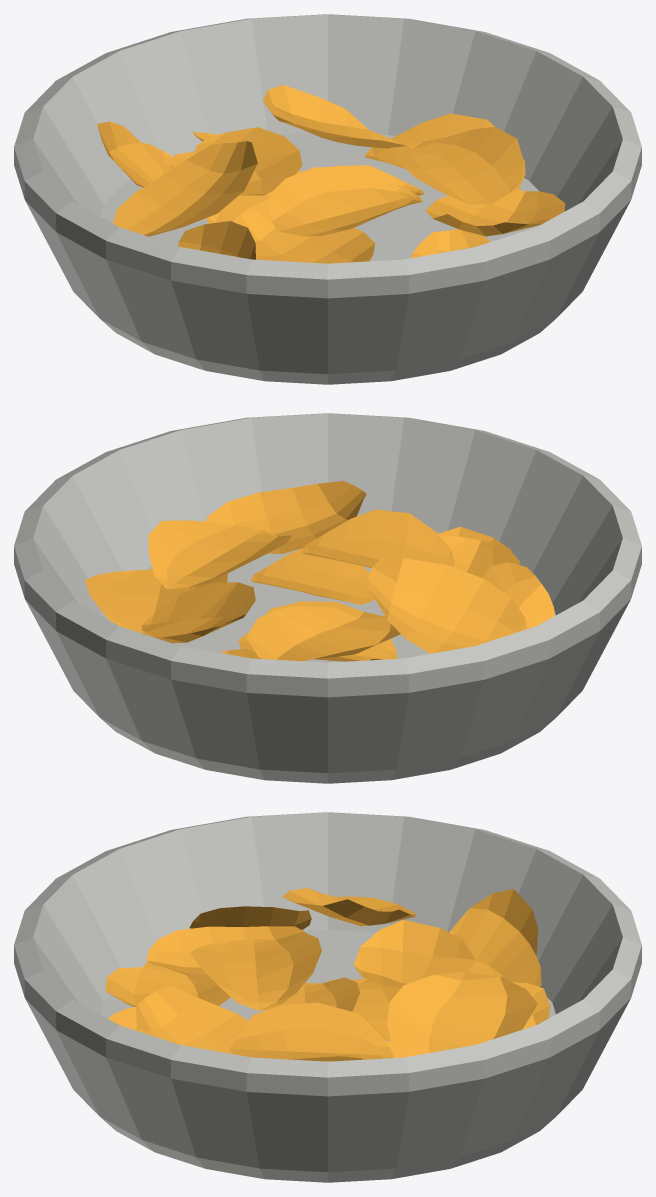
The model's file is Potato_Chips.fbx.
The picture shows the model from 3 angles, top to bottom: view 1: azimuth 30°, elevation 25°; view 2: azimuth 150°, elevation 25°; view 3: azimuth 270°, elevation 25°; orthographic projection.
Visible parts, largest first — view 1: Potato_Chips; view 2: Potato_Chips; view 3: Potato_Chips.
Part boxes in pixels (x1,y1,x2,y2): Potato_Chips: (14,14,641,384); Potato_Chips: (14,413,641,783); Potato_Chips: (14,812,641,1182).
Size of the model in its own units: 10.96 by 2.99 by 10.96.
